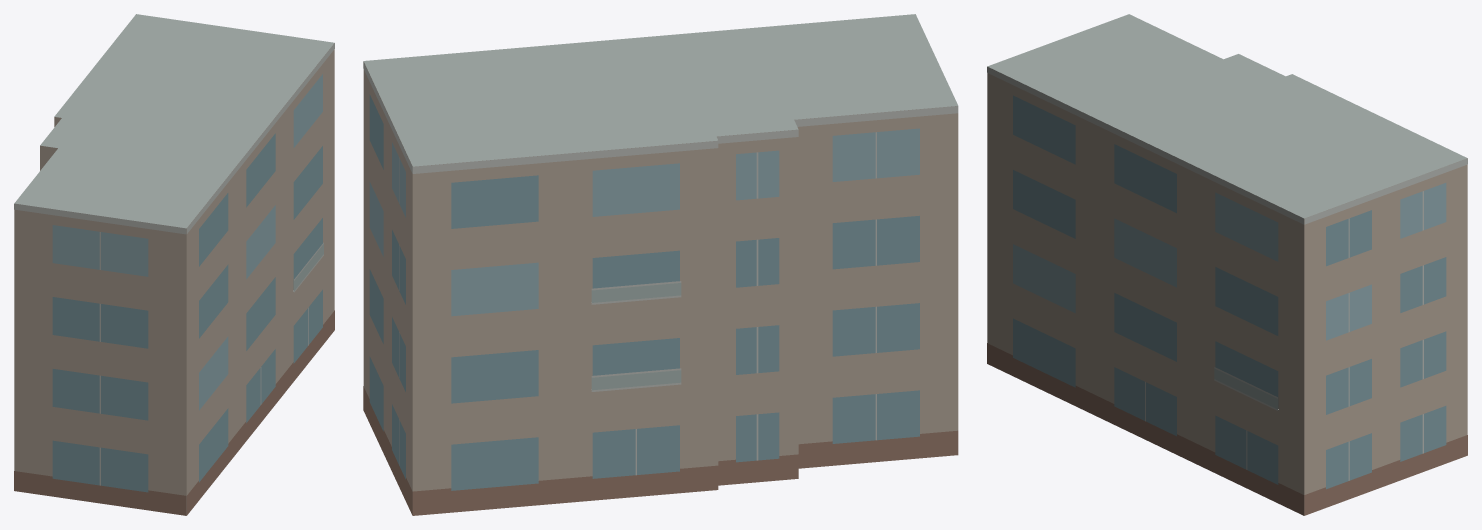
File: survey-upis-32638885.glb
The picture shows the model from 3 angles, left to right: view 1: azimuth 30°, elevation 25°; view 2: azimuth 150°, elevation 25°; view 3: azimuth 270°, elevation 25°; orthographic projection. The views are drawn at different scales.
Visible parts, largest first — view 1: survey-upis-32638885.tmp; view 2: survey-upis-32638885.tmp; view 3: survey-upis-32638885.tmp.
Part boxes in pixels (x1=…): survey-upis-32638885.tmp: x1=14, y1=14, x2=334, y2=515; survey-upis-32638885.tmp: x1=363, y1=14, x2=958, y2=515; survey-upis-32638885.tmp: x1=987, y1=14, x2=1467, y2=515.
Bounding box in the file's own units: 16.97 × 11.5 × 16.85.
